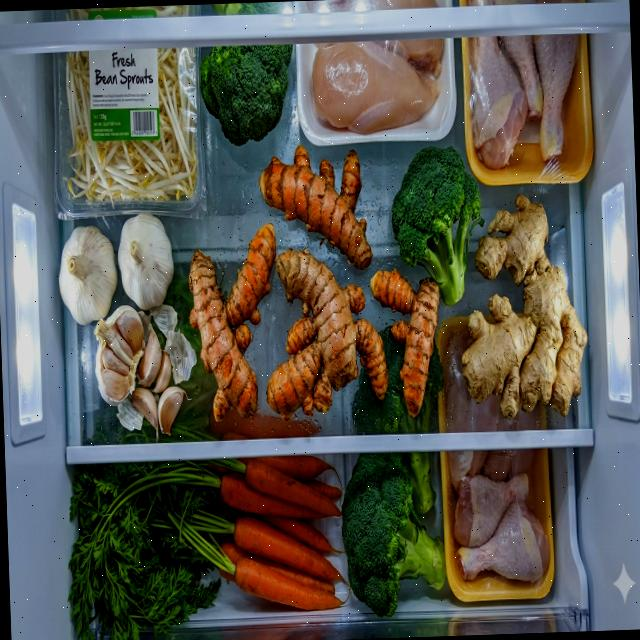bean_sprouts: (63, 46, 198, 206)
brocolli: (334, 322, 452, 620), (389, 143, 485, 308), (199, 44, 296, 148)
carrot: (214, 452, 348, 614)
chicken: (469, 31, 582, 170), (448, 446, 552, 586), (310, 38, 447, 138)
garlic: (56, 210, 186, 440)
ginger: (455, 192, 590, 421)
turmeric: (261, 244, 389, 421), (185, 221, 282, 423), (256, 140, 374, 272), (369, 266, 444, 419)
